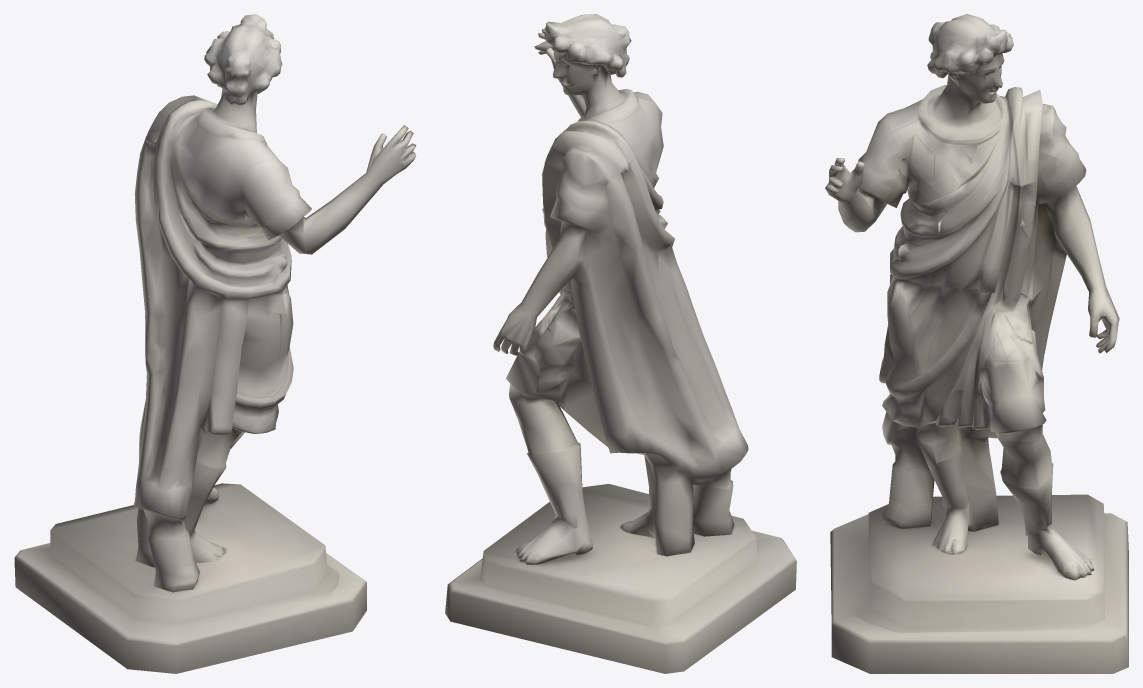
The model's file is statue.glb.
3 views of the same model, side by side, from view 1: azimuth 30°, elevation 25°; view 2: azimuth 150°, elevation 25°; view 3: azimuth 270°, elevation 25° (orthographic). The views are drawn at different scales.
Parts seen in each view (by area): view 1: tripo_node_8edabbf8-06fb-4561-a688-bcd600623c20; view 2: tripo_node_8edabbf8-06fb-4561-a688-bcd600623c20; view 3: tripo_node_8edabbf8-06fb-4561-a688-bcd600623c20.
Part boxes in pixels (x1=…): tripo_node_8edabbf8-06fb-4561-a688-bcd600623c20: x1=14, y1=14, x2=416, y2=673; tripo_node_8edabbf8-06fb-4561-a688-bcd600623c20: x1=445, y1=14, x2=796, y2=673; tripo_node_8edabbf8-06fb-4561-a688-bcd600623c20: x1=825, y1=14, x2=1128, y2=673.
Bounding box in the file's own units: 0.5098 × 0.998 × 0.4473.
Materials: 1 (1 with a texture image).
